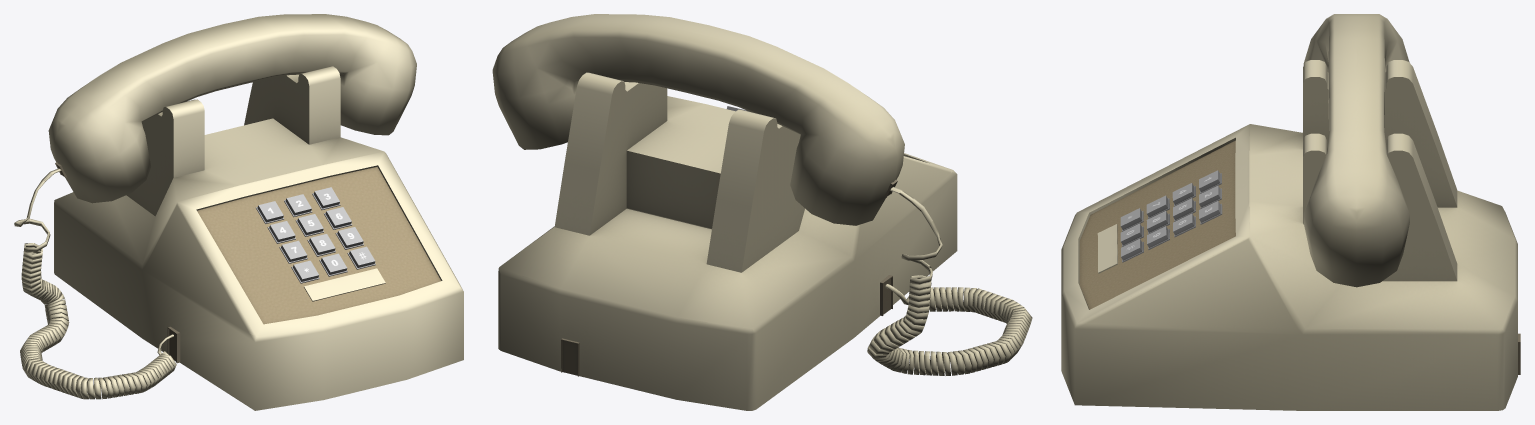
The model's file is denwa.fbx.
The picture shows the model from 3 angles, left to right: view 1: azimuth 30°, elevation 25°; view 2: azimuth 150°, elevation 25°; view 3: azimuth 270°, elevation 25°; orthographic projection. The views are drawn at different scales.
Parts seen in each view (by area): view 1: denwa; view 2: denwa; view 3: denwa.
Boxes of the visible parts, x1,y1,x2,y2 form: denwa: [14, 14, 463, 410]; denwa: [492, 14, 1032, 410]; denwa: [1061, 14, 1520, 410].
Size of the model in its own units: 40.51 by 23.95 by 34.2.
1 material, 1 textured.
